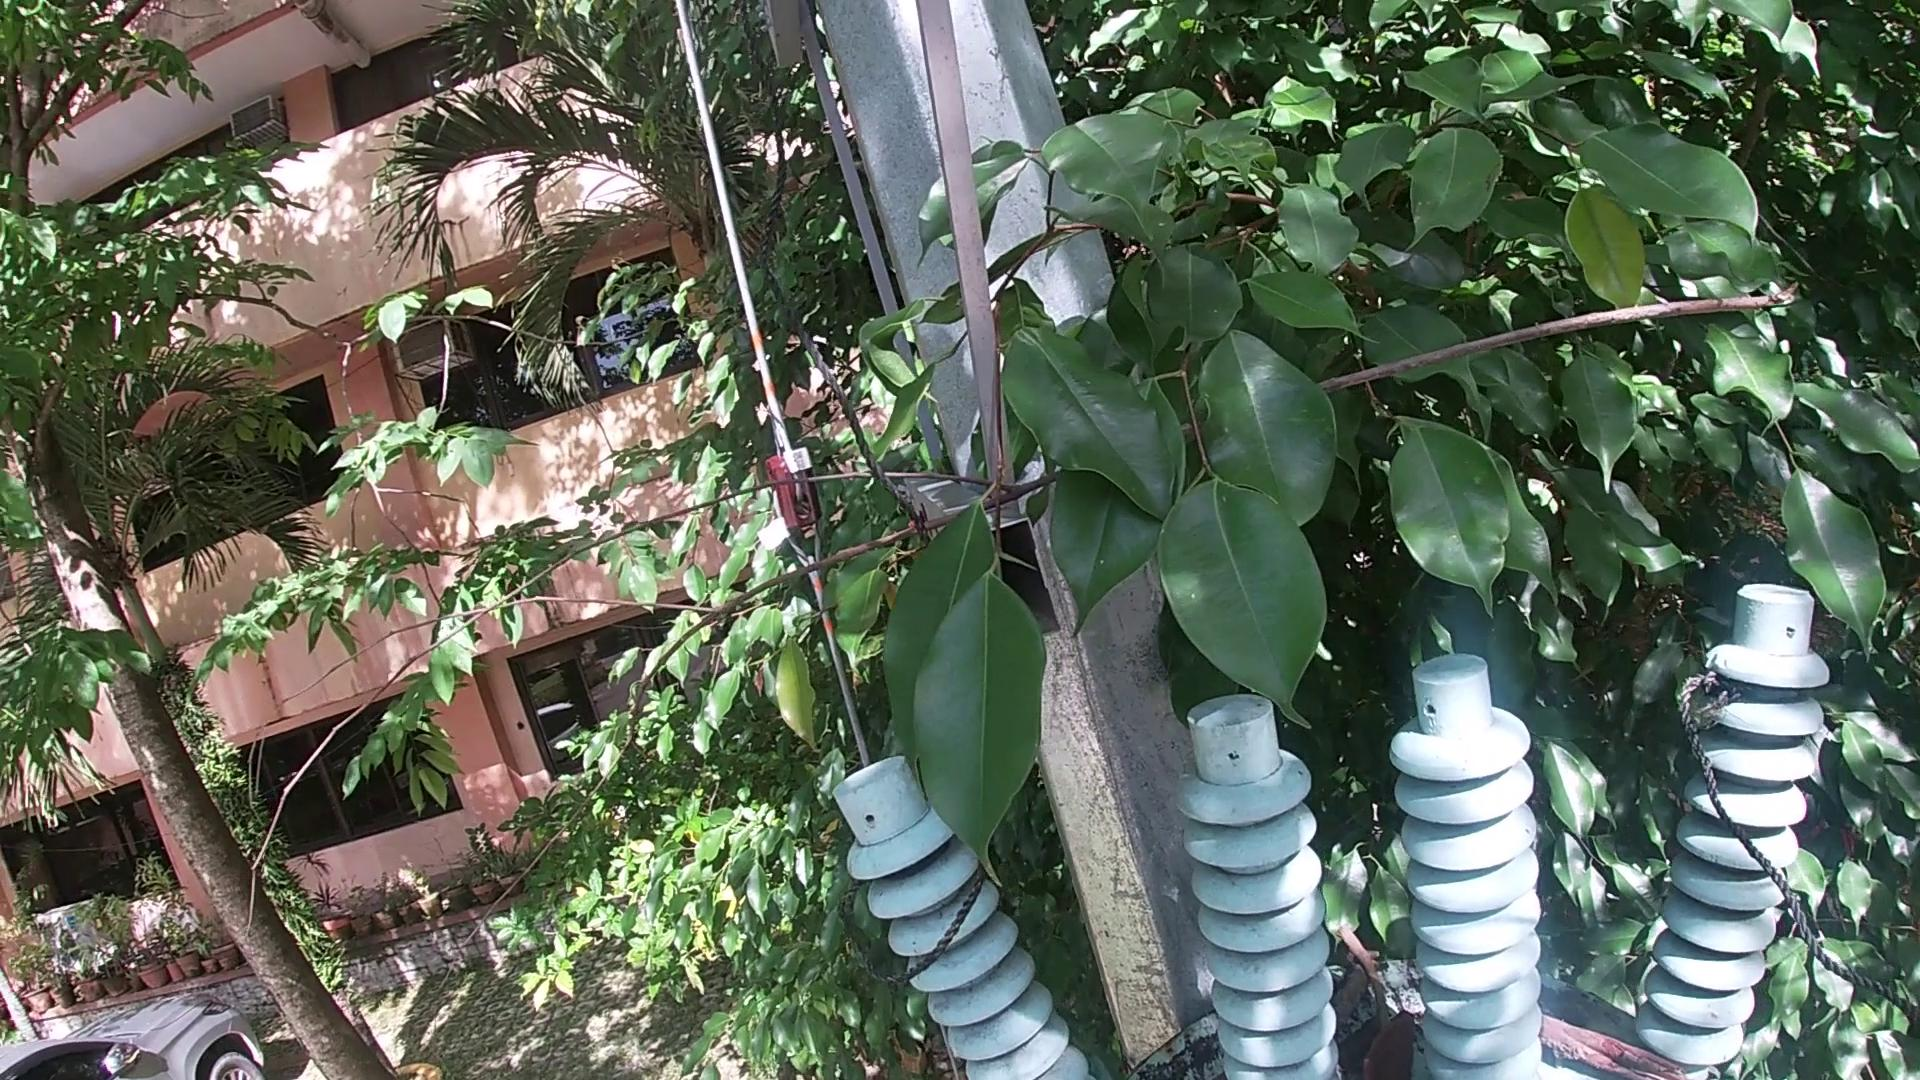mahogany fruit: (1356, 1004, 1423, 1075)
tree branch: (287, 248, 1825, 1004), (1540, 1017, 1698, 1077), (1342, 926, 1395, 1023), (1324, 956, 1382, 1030)
